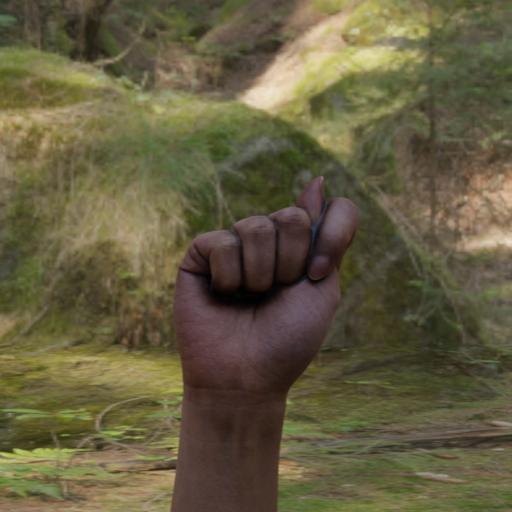T: (159, 170, 368, 416)
